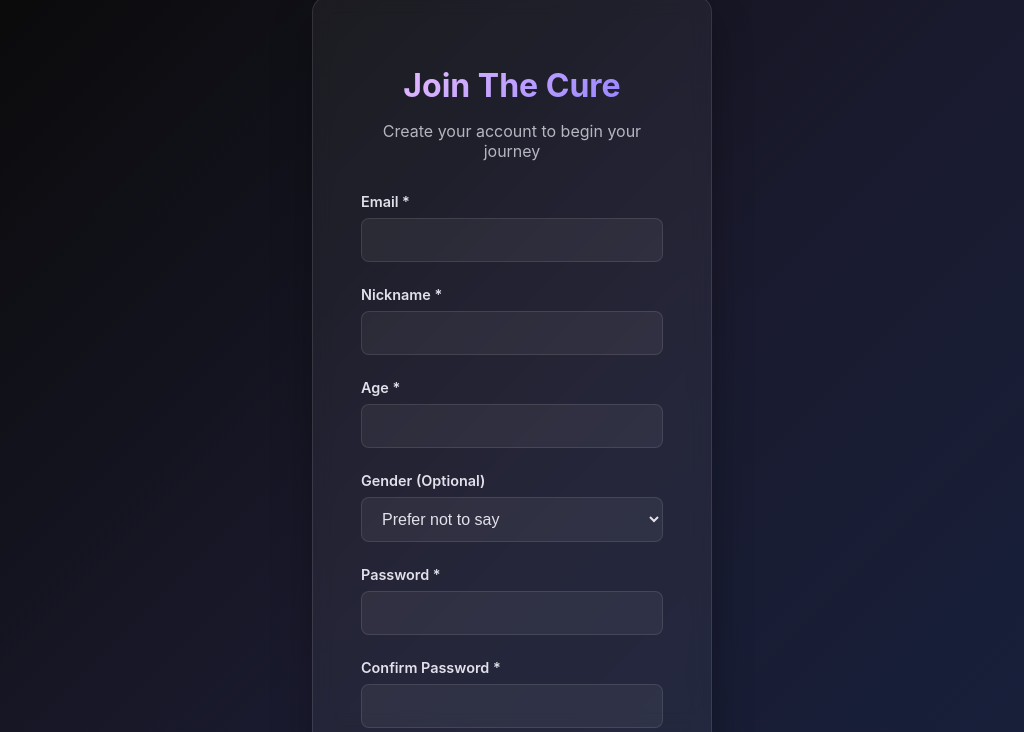
it: RegisterPage › validates password length
Step 1. Type "abc" into the password field labelled "Password *" → (512, 613), box 361,591 -> 663,635
(page scrolled)
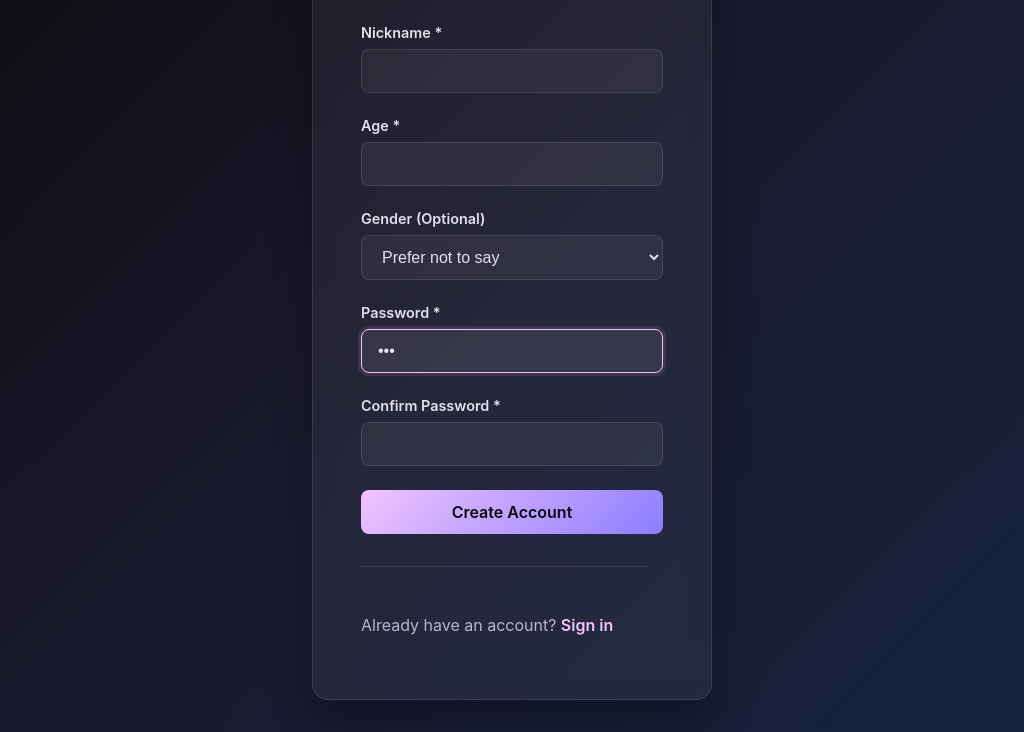
Step 2. Click the button "Create Account" → (512, 512), box 361,490 -> 663,534
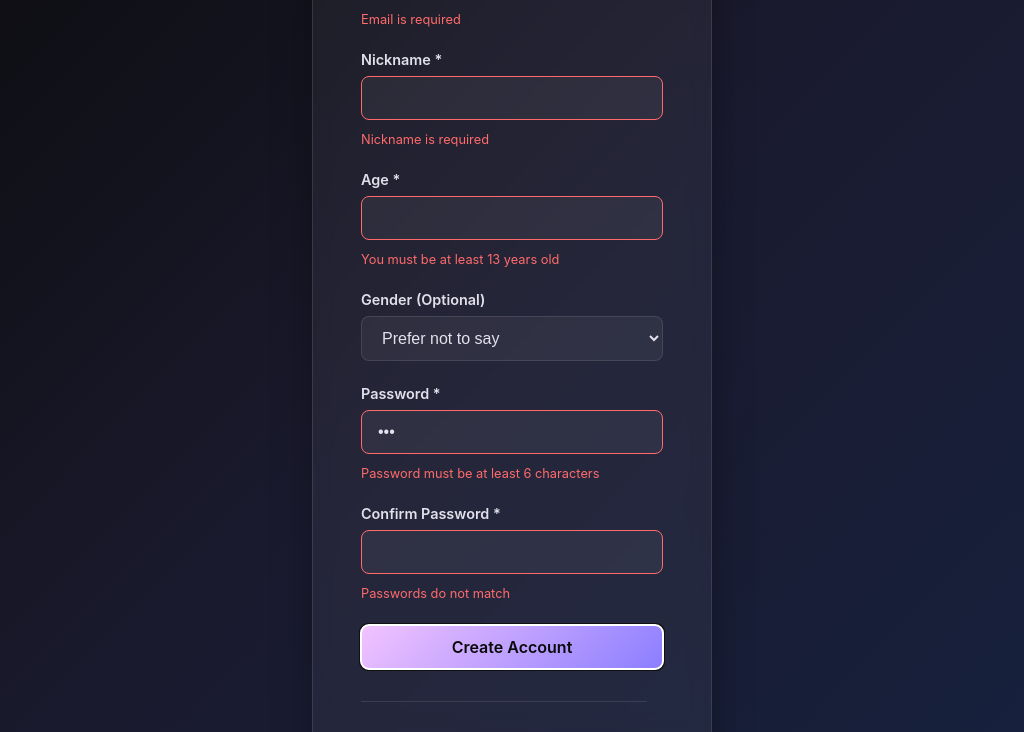
Expected: the text "Password must be at least 6 characters" is shown, 361,466 -> 599,481
